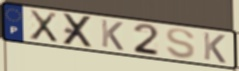2: (132, 23, 160, 58)
K: (99, 18, 125, 52), (202, 30, 227, 65)
S: (164, 27, 197, 60)
X: (61, 12, 95, 49), (28, 9, 59, 45)
